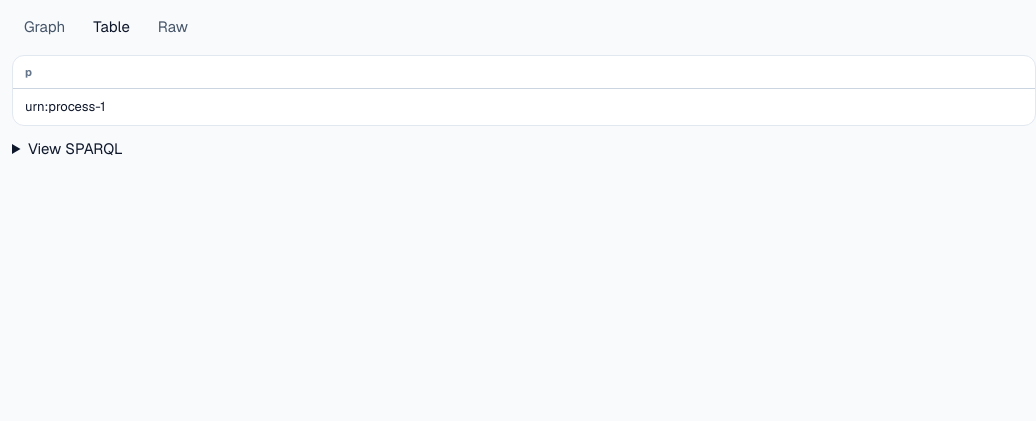
ResultFrame › shows a no-grounded-matches note and dims the canvas when groundedIris is empty
The width and height of the screenshot is (1036, 421).
Click the tab "Graph": (45, 27) [12,12,77,42]
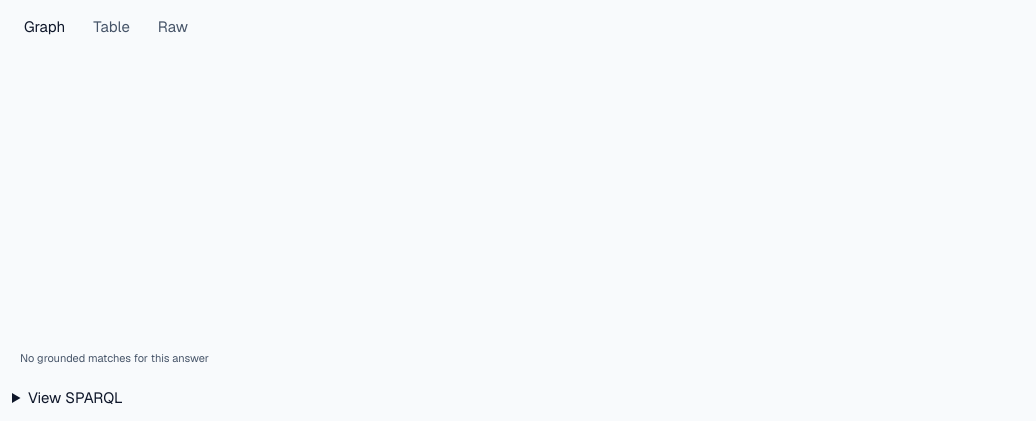
Expected: the text "No grounded matches for this answer" is shown, [20,350,209,366]
